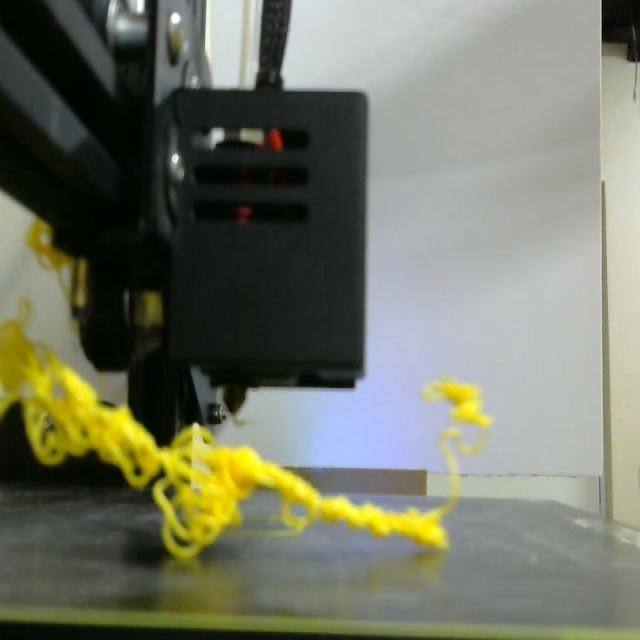spaghetti: (0, 315, 491, 559), (29, 222, 70, 269)
